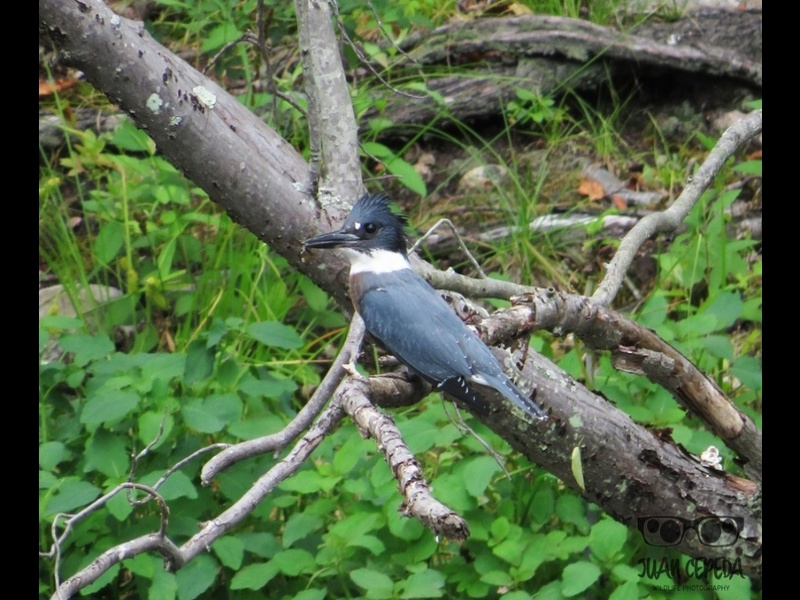kingfisher: (304, 192, 545, 423)
